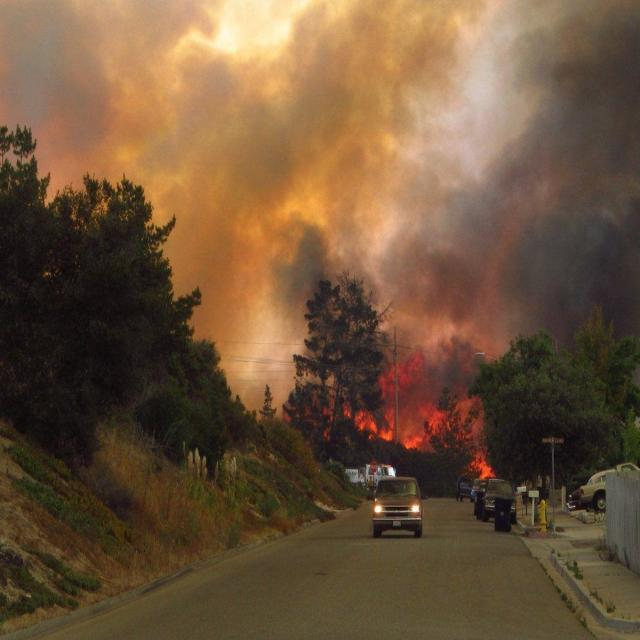Fire: (322, 352, 499, 480)
Smoke: (0, 0, 640, 421)
